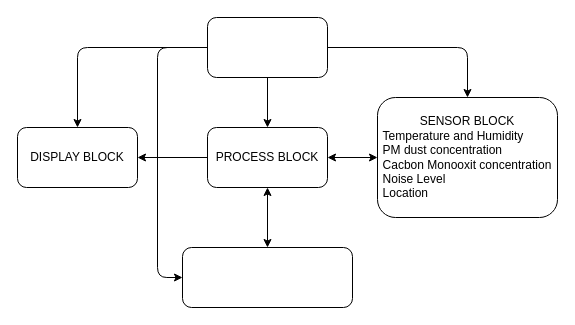
The diagram is 575 pixels wide and 325 high, and some of its shapes have lost their labels. The shapes that lost their labels are listed below. From the top down, each one's centre as x and y in pixels, then its label:
At pixel 267 47: "ELECTRIC SUPPLY BLOCK".
At pixel 267 277: "WIRELESS COMMUNICATION BLOCK".
